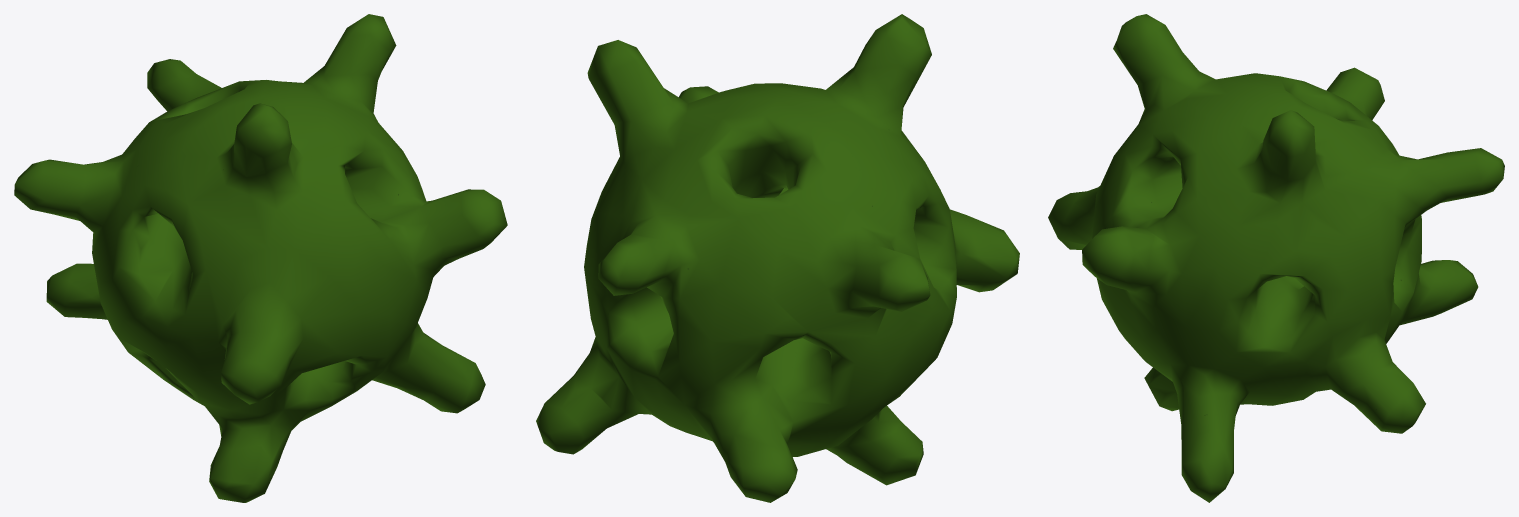
File: Bomb.fbx
3 views of the same model, side by side, from view 1: azimuth 30°, elevation 25°; view 2: azimuth 150°, elevation 25°; view 3: azimuth 270°, elevation 25° (orthographic). The views are drawn at different scales.
Parts seen in each view (by area): view 1: Layer_1; view 2: Layer_1; view 3: Layer_1.
Part boxes in pixels (x1,y1,x2,y2): Layer_1: [14, 14, 507, 502]; Layer_1: [536, 14, 1019, 502]; Layer_1: [1048, 14, 1504, 502].
Bounding box in the file's own units: 0.4097 × 0.4257 × 0.4085.
